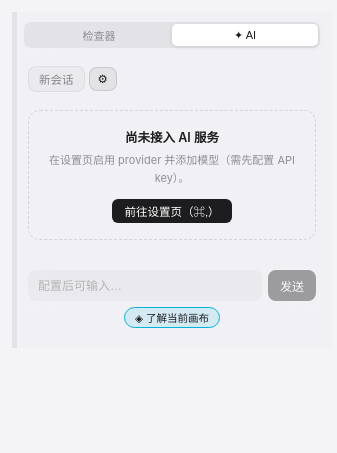
Test: RightPanel ✦AI 改动预览卡 › 写工具批次 → 预览卡 → 执行成功回执
In the field named "AI 对话输入": (145, 286) [28,270,262,301], type "加一场戏"
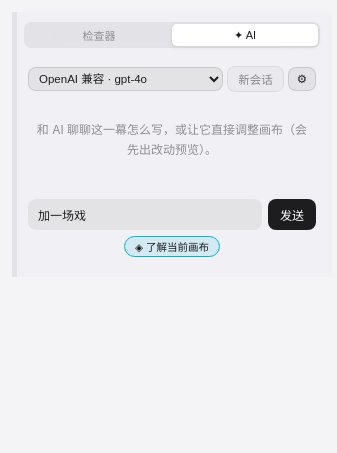
Press Enter in the field named "AI 对话输入", box [28,199,262,230]
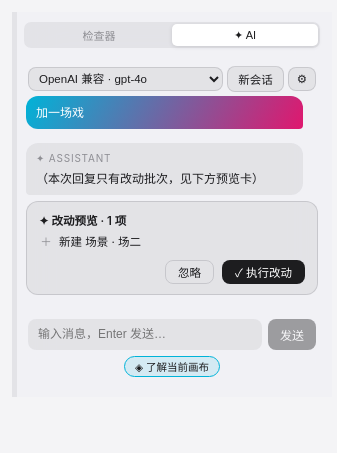
Expected: the text "✦ 改动预览 · 1 项" is shown, [39,214,126,228]
Expected: the list item "新建 场景 · 场二" is shown, [59,235,141,249]
Click the button "✓ 执行改动": (263, 272) [222,260,305,284]
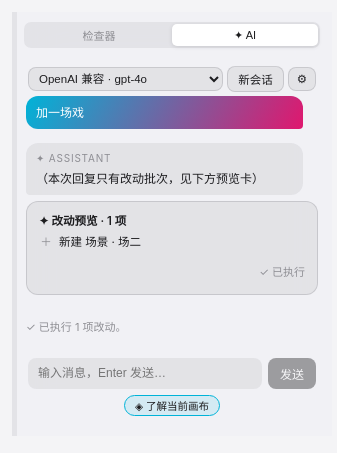
Expected: the text "✓ 已执行 1 项改动。" is shown, [26,320,126,334]
